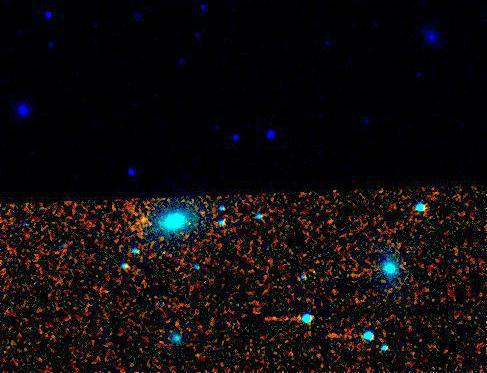star: (128, 205, 158, 235)
